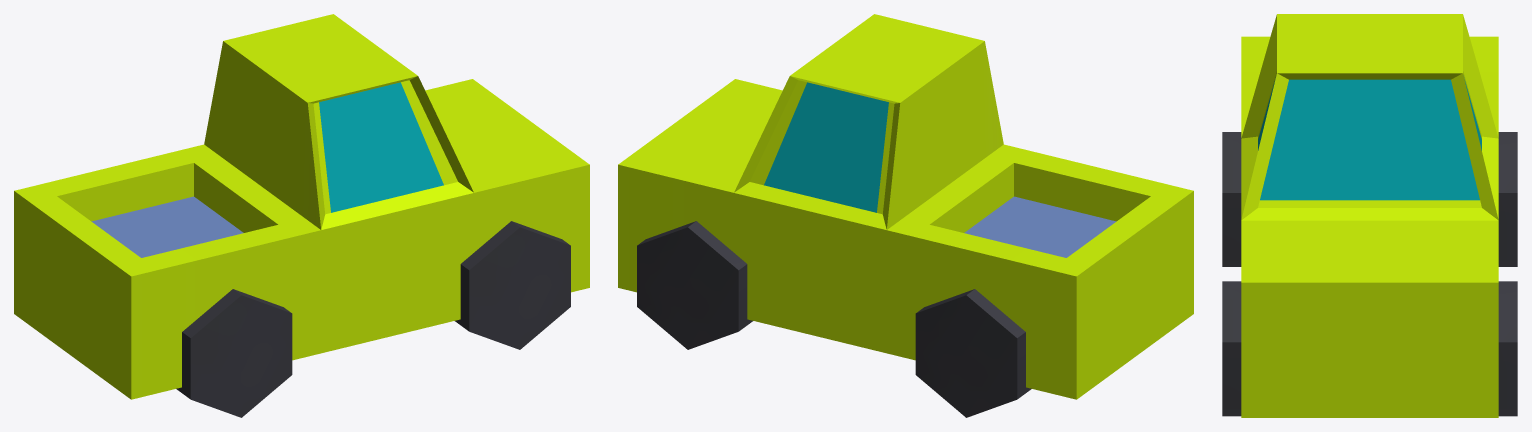
Rendered from Car2.fbx.
3 renders of one model, left to right at view 1: azimuth 30°, elevation 25°; view 2: azimuth 150°, elevation 25°; view 3: azimuth 270°, elevation 25°, orthographic. The views are drawn at different scales.
Visible parts, largest first — view 1: Cube.042; view 2: Cube.042; view 3: Cube.042.
Boxes of the visible parts, bbox=[...] form: Cube.042: bbox=[14, 14, 589, 417]; Cube.042: bbox=[618, 14, 1193, 417]; Cube.042: bbox=[1222, 14, 1517, 417].
Bounding box in the file's own units: 504 × 288 × 256.
